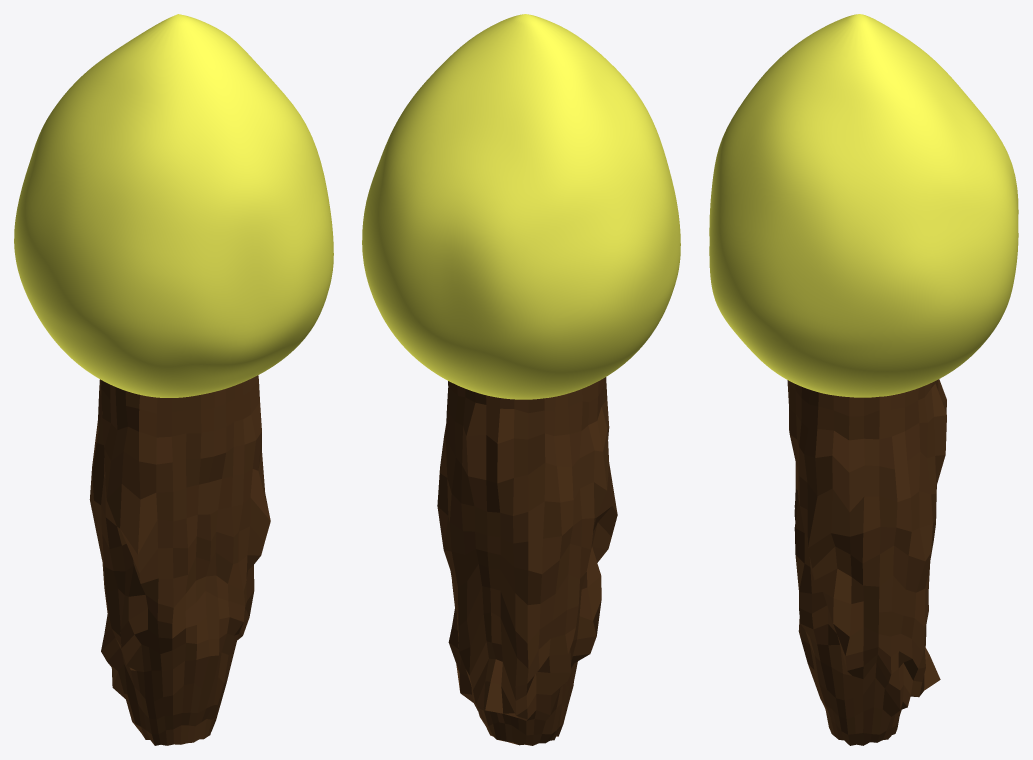
The model's file is torch 1.fbx.
The picture shows the model from 3 angles, left to right: view 1: azimuth 30°, elevation 25°; view 2: azimuth 150°, elevation 25°; view 3: azimuth 270°, elevation 25°; orthographic projection.
Visible parts, largest first — view 1: Fire, Torch; view 2: Fire, Torch; view 3: Fire, Torch.
Part boxes in pixels (bbox=[...]): Fire: bbox=[14, 14, 333, 397]; Torch: bbox=[89, 375, 270, 745]; Fire: bbox=[362, 14, 680, 399]; Torch: bbox=[437, 377, 617, 745]; Fire: bbox=[709, 14, 1018, 397]; Torch: bbox=[787, 379, 946, 745].
Bounding box in the file's own units: 458 × 1161 × 453.
